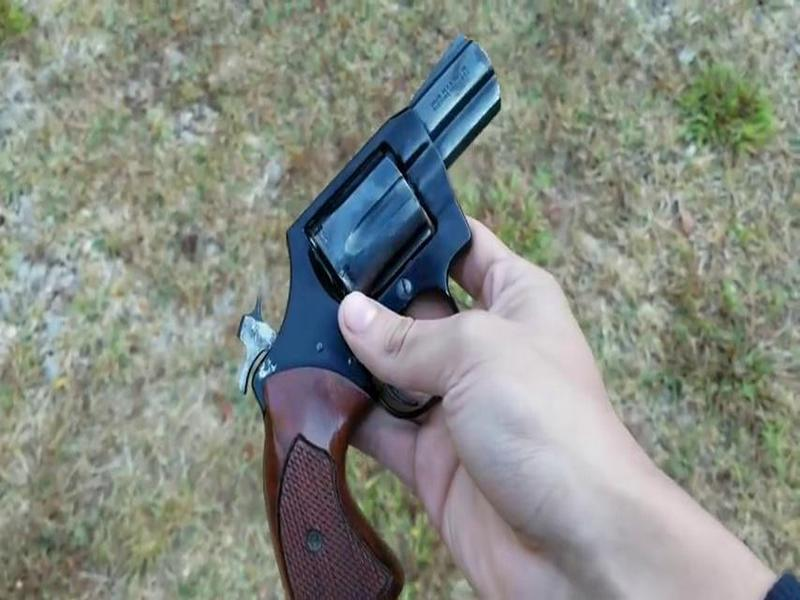Revolver: (226, 27, 509, 595)
